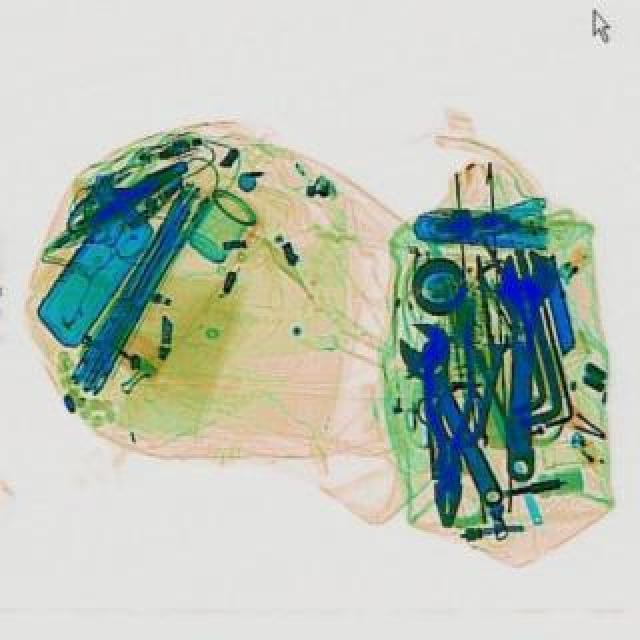scissors: (384, 308, 528, 514), (492, 248, 556, 480)
wrench: (416, 318, 478, 526)
